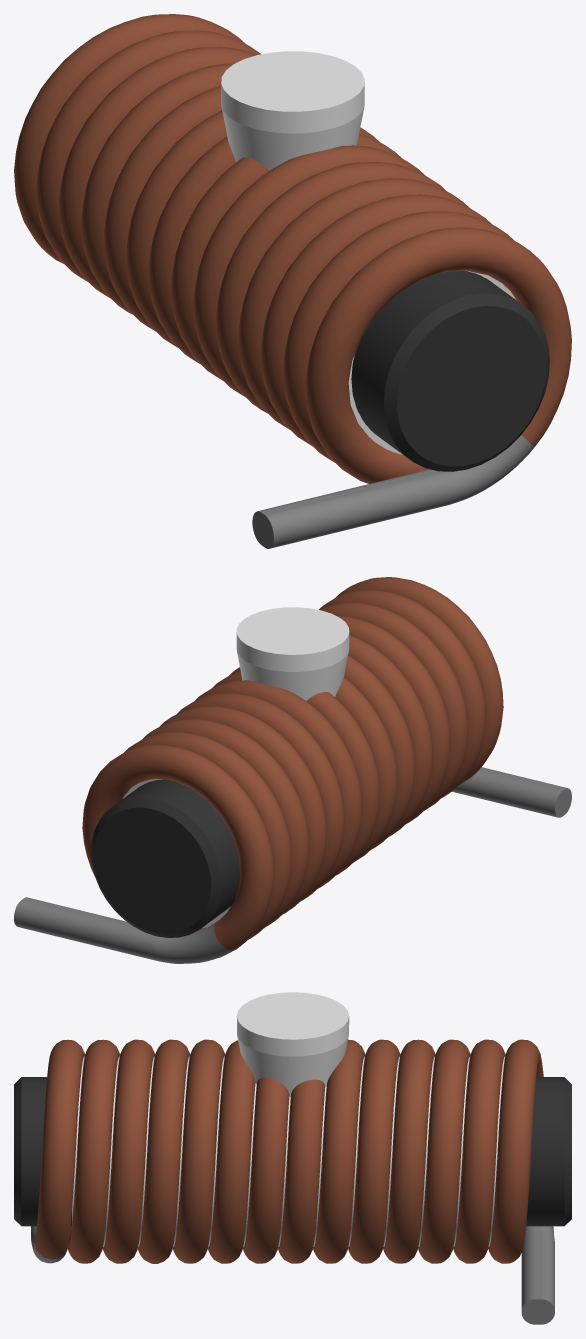
The model's file is WE-RCIS Rod Core Inductor SMT.gltf.
The picture shows the model from 3 angles, top to bottom: view 1: azimuth 30°, elevation 25°; view 2: azimuth 150°, elevation 25°; view 3: azimuth 270°, elevation 25°; orthographic projection. The views are drawn at different scales.
Parts seen in each view (by area): view 1: coil, core, glue; view 2: coil, core, glue; view 3: coil, glue, core.
Boxes of the visible parts, bbox=[...] form: coil: bbox=[14, 14, 571, 548]; core: bbox=[351, 270, 549, 471]; glue: bbox=[221, 51, 516, 454]; coil: bbox=[14, 577, 571, 963]; core: bbox=[91, 779, 240, 937]; glue: bbox=[122, 607, 349, 927]; coil: bbox=[31, 1039, 554, 1324]; glue: bbox=[72, 992, 505, 1247]; core: bbox=[14, 1077, 571, 1226].
Size of the model in its own units: 0.009 by 0.007 by 0.0149.
